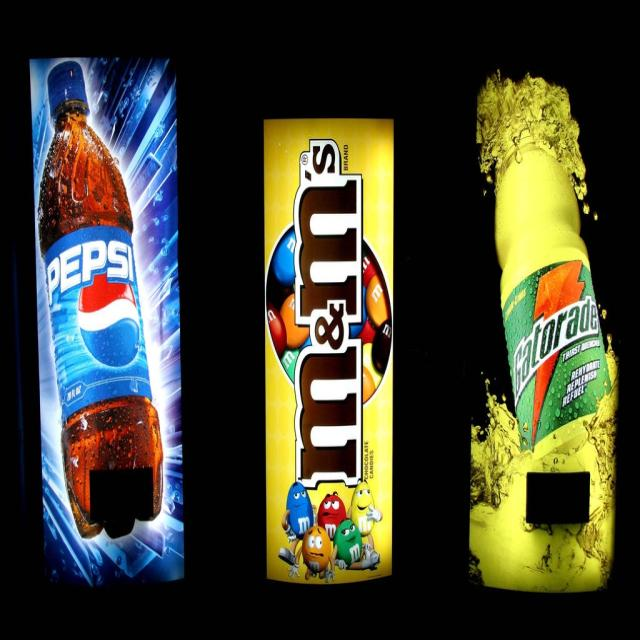pepsi: (77, 272, 142, 368)
